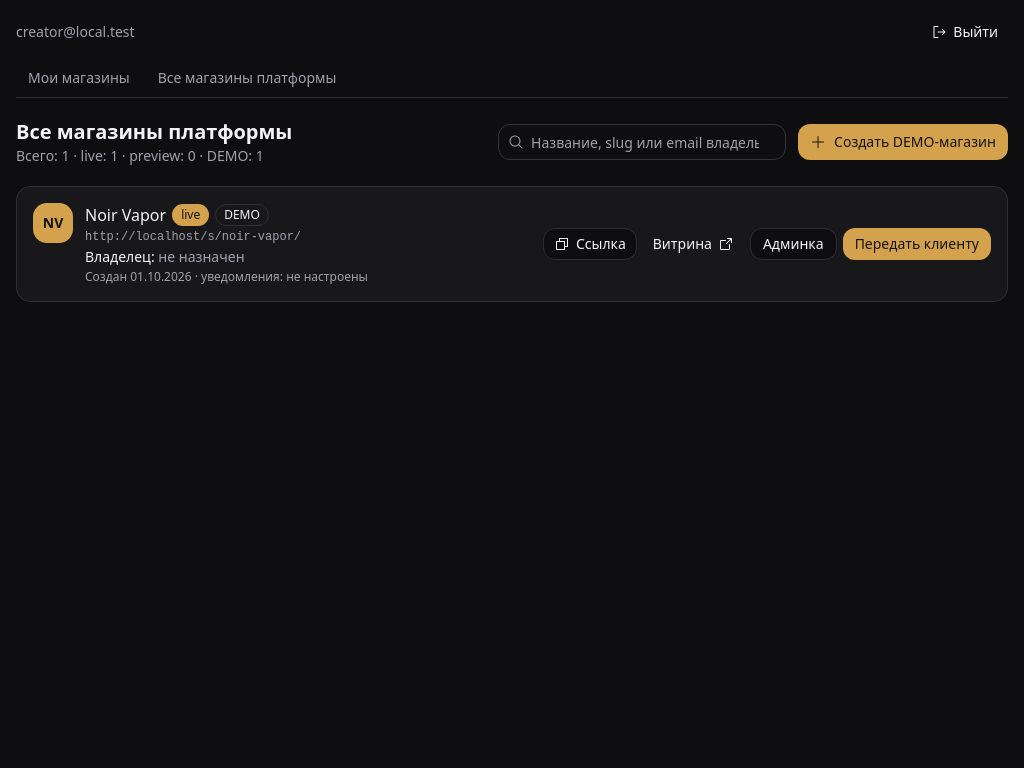
Test: Все магазины платформы › create DEMO: a server-side slug conflict is shown and nothing is reported as created
The width and height of the screenshot is (1024, 768).
Click the button with test id "platform-create-demo": point(903, 142) [798,124,1008,160]
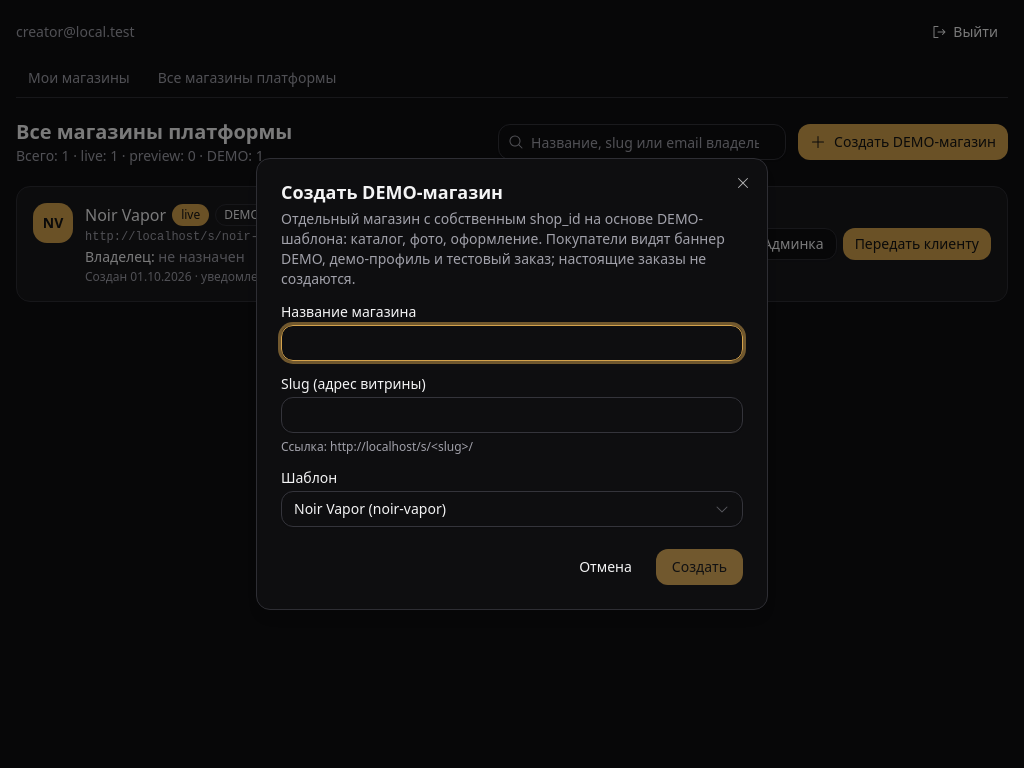
In the field with test id "create-demo-name": point(512, 343) [281,325,743,361], type "Race"
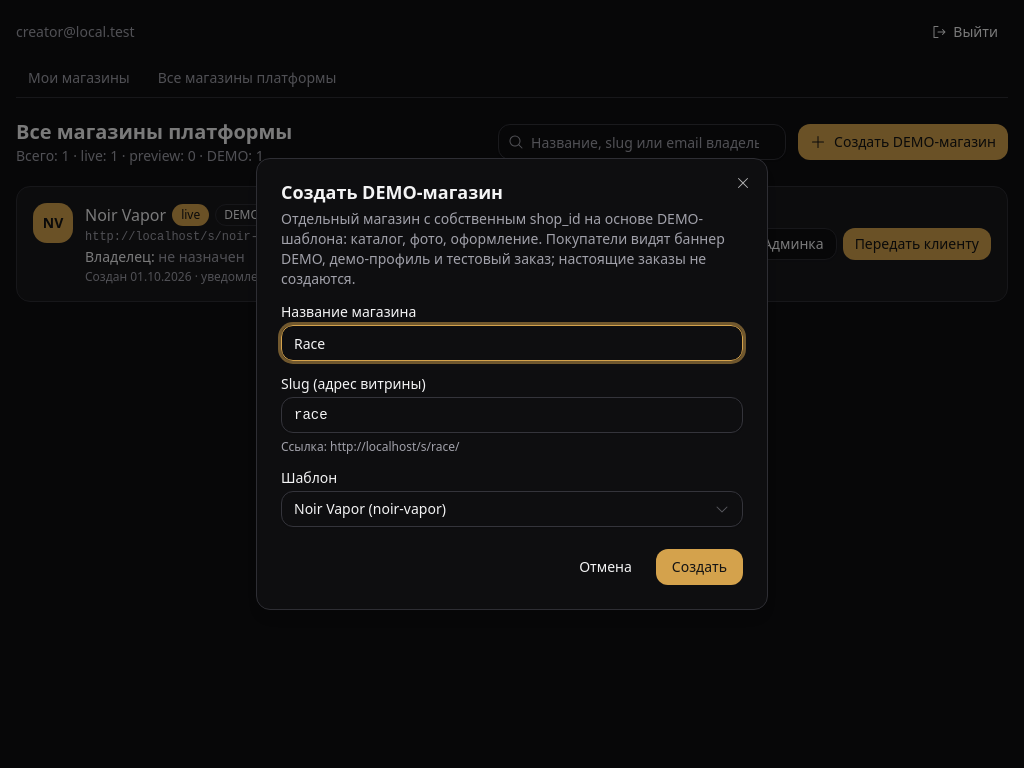
Click the button with test id "create-demo-submit": point(699, 567) [656,549,743,585]
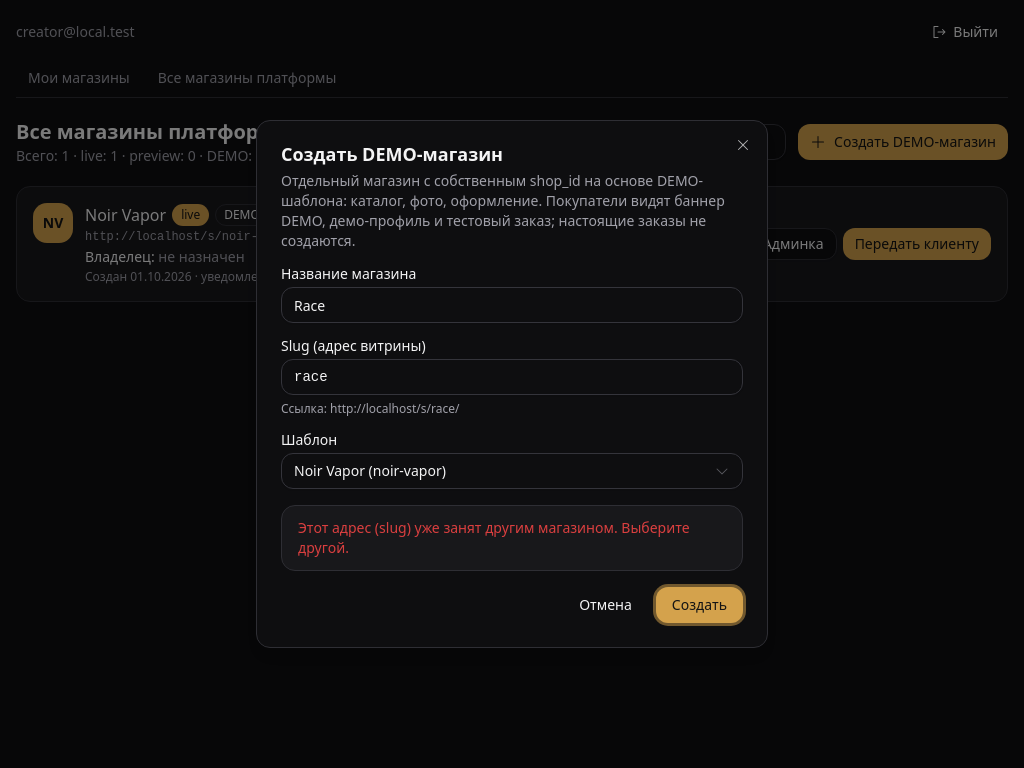
Check: the message with test id "create-demo-error" shows "уже занят", box [298,518,690,557]
